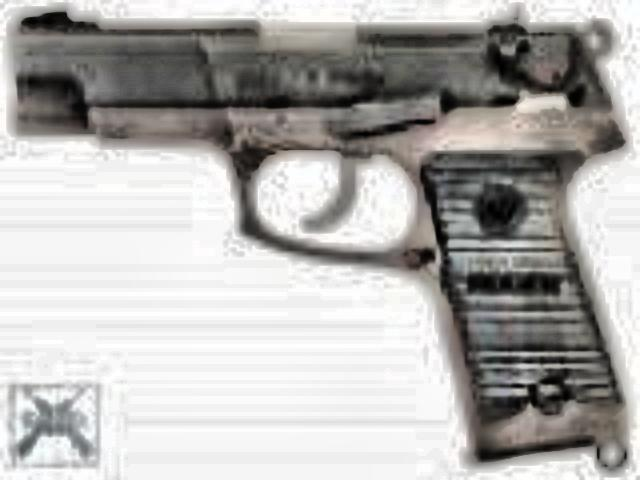pistol: (0, 0, 616, 448)
